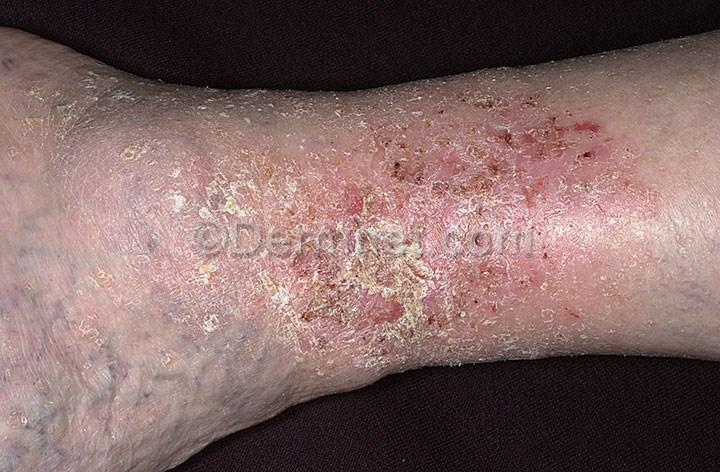Eczema: (269, 207, 528, 372), (361, 103, 641, 233), (168, 244, 292, 343), (195, 87, 342, 160), (11, 66, 142, 143), (156, 164, 299, 229), (550, 271, 550, 276)
